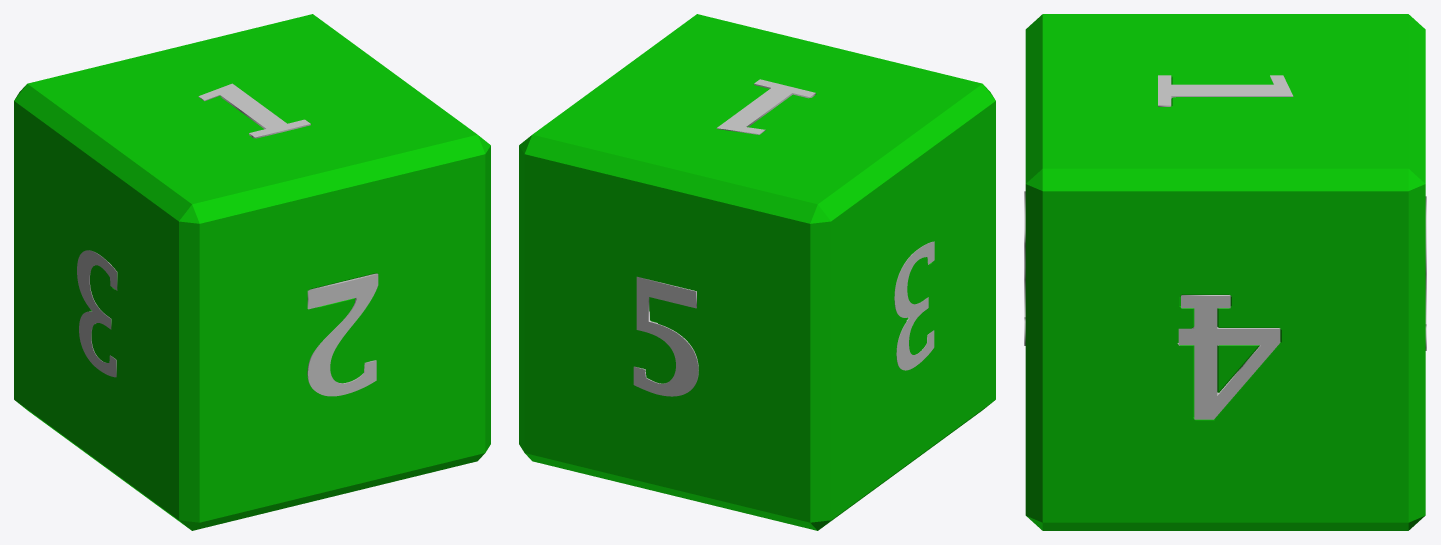
File: Dice_Six.obj
3 renders of one model, left to right at view 1: azimuth 30°, elevation 25°; view 2: azimuth 150°, elevation 25°; view 3: azimuth 270°, elevation 25°, orthographic. The views are drawn at different scales.
Parts seen in each view (by area): view 1: Cube, 2_Curve.003, 3_Curve.007, 1_Curve; view 2: Cube, 5_Curve.005, 3_Curve.007, 1_Curve; view 3: Cube, 4_Curve.004, 1_Curve.
Part boxes in pixels (<box>): Cube: <box>14,14,490,530</box>; 2_Curve.003: <box>307,273,378,396</box>; 3_Curve.007: <box>77,250,117,377</box>; 1_Curve: <box>198,83,310,138</box>; Cube: <box>519,14,995,530</box>; 5_Curve.005: <box>633,276,698,396</box>; 3_Curve.007: <box>894,241,934,370</box>; 1_Curve: <box>716,79,815,134</box>; Cube: <box>1025,14,1425,530</box>; 4_Curve.004: <box>1178,295,1280,419</box>; 1_Curve: <box>1158,75,1293,106</box>.
Bounding box in the file's own units: 1.91 × 1.91 × 1.91.
